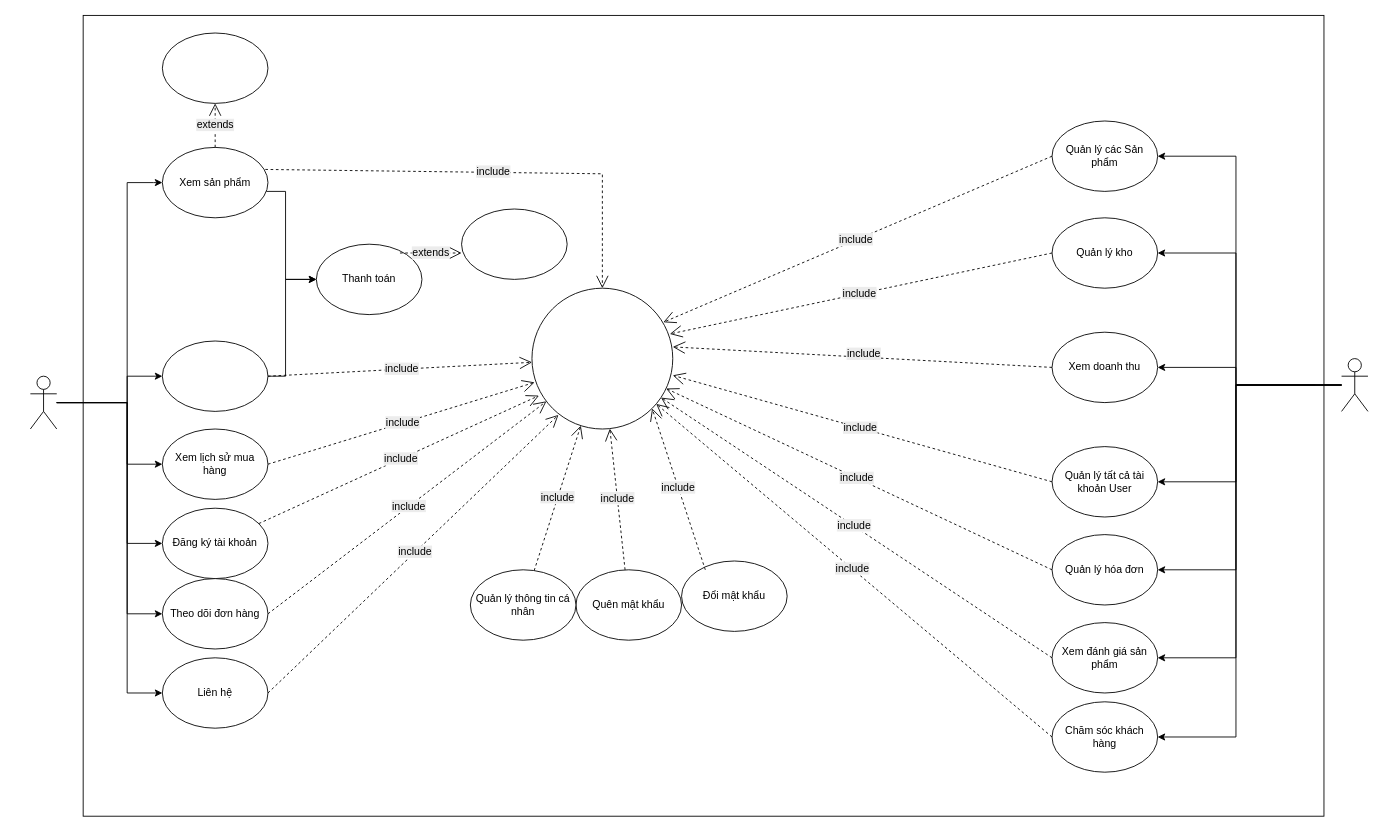
This 1388x832 diagram has some shape labels left out. The shapes that lost their labels are listed below. From the top down, each one's box as (x1, y1, x2, y2) in pixels, then its label:
(161, 32, 268, 103): Đăng ký sớm
(461, 208, 567, 279): Đánh giá sản phẩm
(161, 340, 268, 411): Giỏ hàng
(531, 287, 673, 429): Đăng nhập
(29, 375, 57, 429): Khách hàng
(1341, 358, 1368, 411): Quản lý
